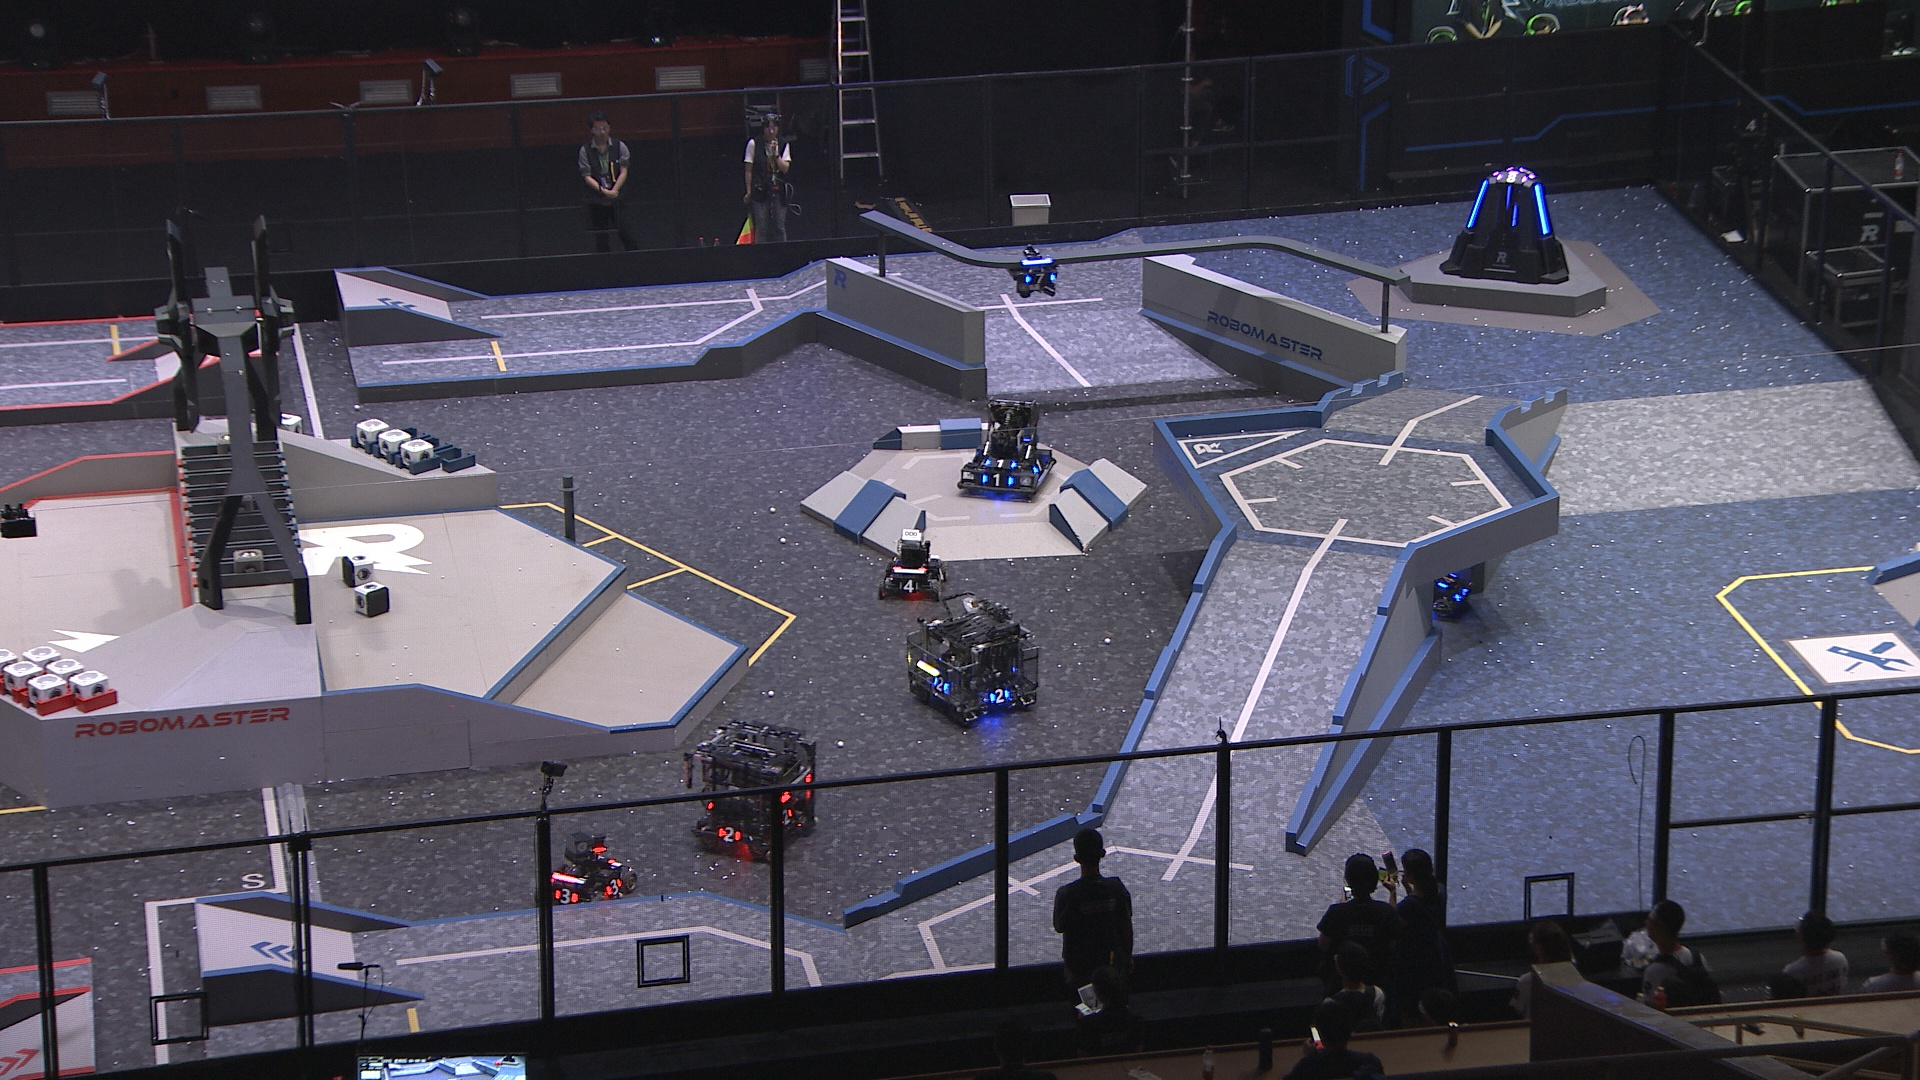armor: (1466, 183, 1490, 232), (1536, 186, 1555, 237), (978, 472, 1015, 489), (716, 825, 742, 847), (553, 887, 580, 906), (984, 688, 1013, 704), (1025, 272, 1059, 285), (1437, 571, 1460, 589), (603, 878, 622, 898), (895, 579, 920, 593), (982, 456, 1017, 467), (932, 675, 951, 694), (1453, 584, 1472, 603), (779, 808, 795, 827), (1030, 462, 1046, 476), (1513, 204, 1520, 232), (934, 567, 948, 580)
base: (1437, 167, 1571, 286)
car: (901, 589, 1044, 725), (684, 717, 823, 856), (953, 400, 1055, 500), (542, 829, 641, 913), (880, 529, 953, 604), (1399, 549, 1480, 617)
ignore: (1495, 171, 1527, 185)
watcher: (1007, 244, 1062, 295)
